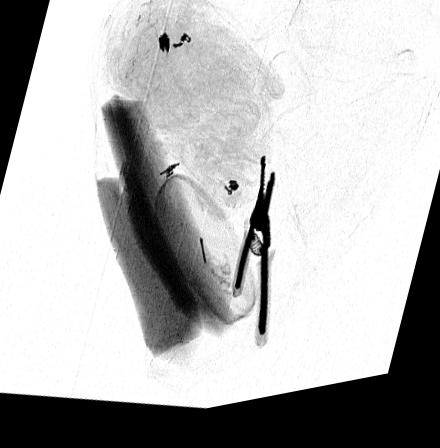Pliers: (231, 165, 276, 349)
